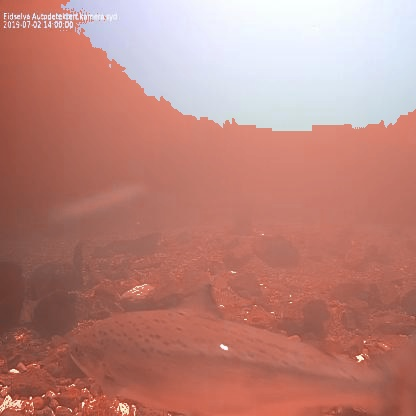salmon: (64, 276, 416, 416)
